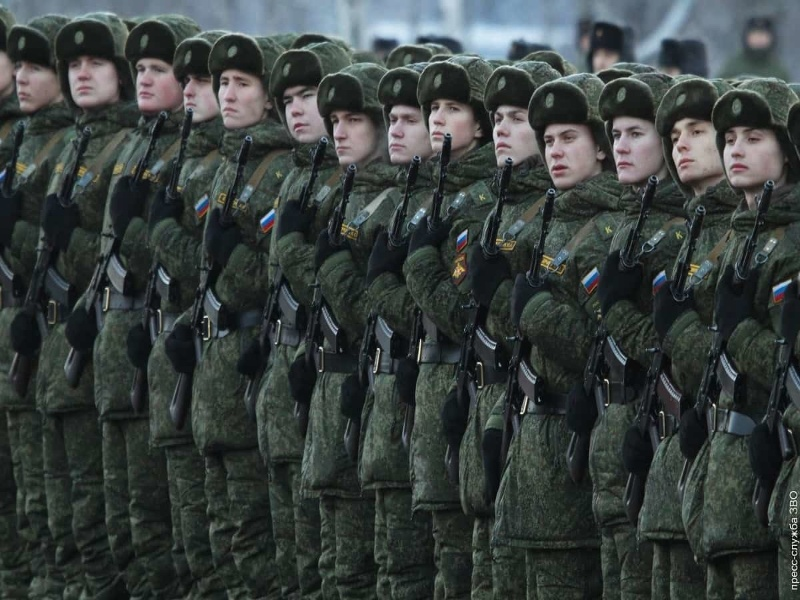person: (95, 14, 202, 600), (39, 11, 137, 600), (458, 61, 561, 600), (255, 41, 352, 599), (705, 77, 800, 600), (402, 55, 493, 599), (148, 30, 234, 600), (521, 73, 613, 597), (200, 34, 285, 599), (299, 62, 387, 600), (360, 61, 433, 600), (590, 73, 664, 600), (5, 15, 71, 600), (655, 79, 725, 600), (717, 17, 791, 84), (586, 19, 634, 73)
weapon: (676, 180, 774, 499), (61, 110, 169, 390), (566, 175, 659, 487), (621, 205, 705, 527), (242, 137, 328, 419), (169, 135, 251, 430), (343, 155, 420, 465), (7, 127, 92, 396), (444, 158, 512, 485), (129, 108, 193, 415), (292, 163, 357, 442), (401, 134, 452, 454), (502, 189, 555, 470), (750, 277, 800, 531)
